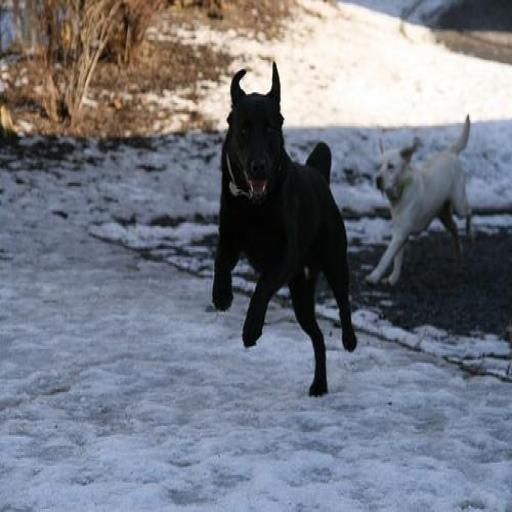dog_face: (226, 73, 293, 201), (366, 137, 414, 206)
